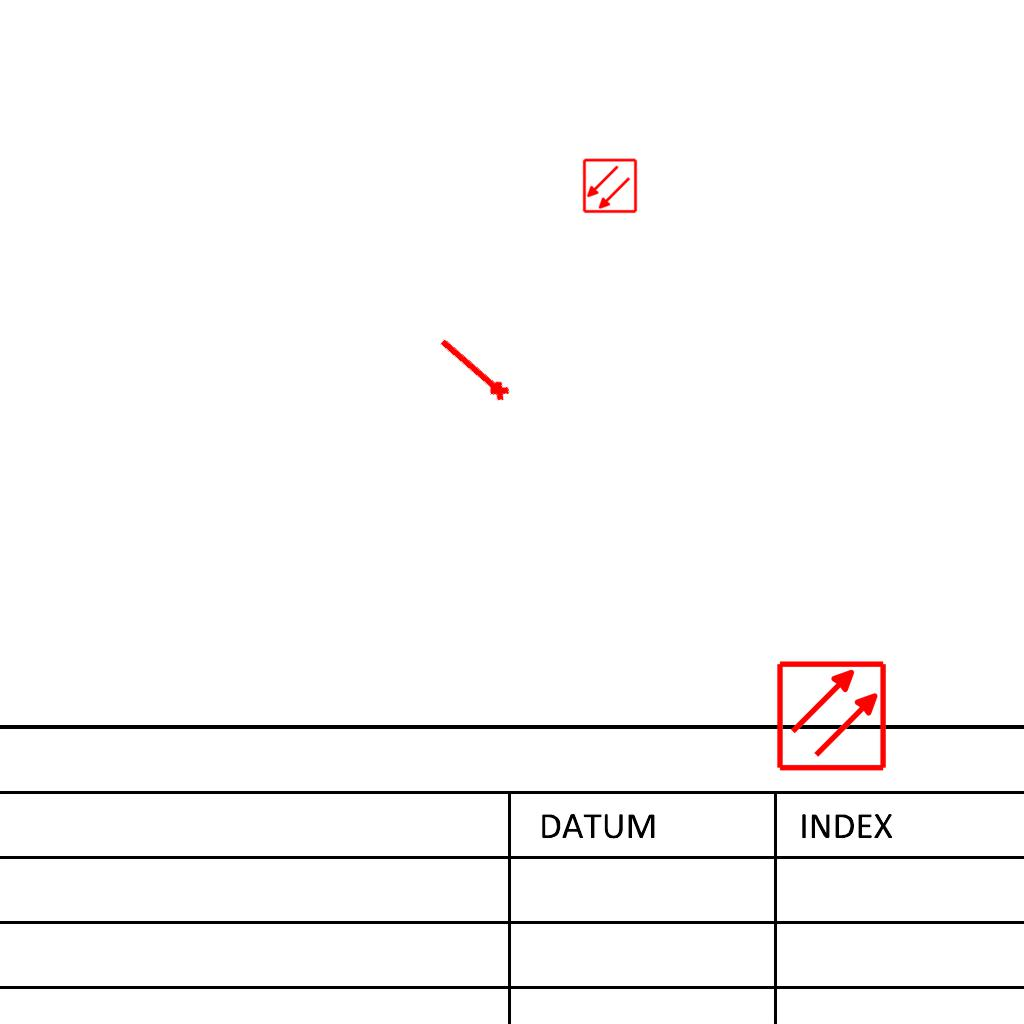ASR_Ansaugoeffnung: (432, 331, 514, 408)
RMO_Rauchmelder_optischer: (775, 659, 888, 772), (582, 158, 638, 214)
